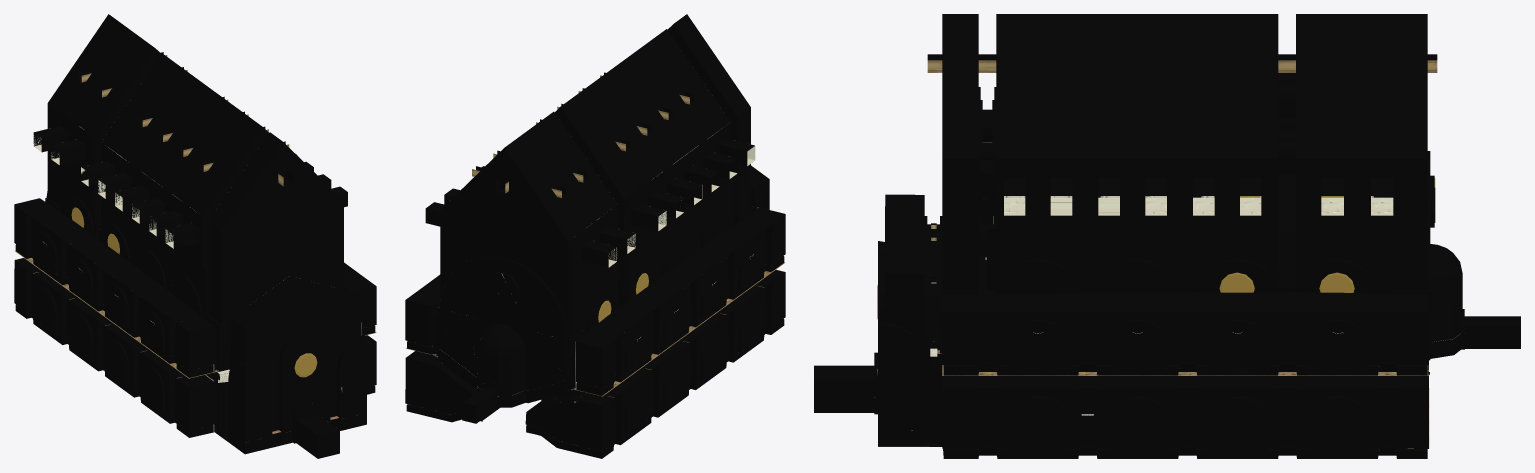
Rendered from hyrule_castle_interior.glb.
3 views of the same model, side by side, from view 1: azimuth 30°, elevation 25°; view 2: azimuth 150°, elevation 25°; view 3: azimuth 270°, elevation 25° (orthographic). The views are drawn at different scales.
Visible parts, largest first — view 1: Material2, Material3 (×4); view 2: Material2, Material3 (×4); view 3: Material2, Material3 (×4).
Boxes of the visible parts, x1,y1,x2,y2 form: Material2: (14,14,376,458); Material3 (×4): (15,55,376,392); Material2: (405,14,785,458); Material3 (×4): (406,75,784,396); Material2: (814,14,1520,458); Material3 (×4): (877,60,1437,375).
Size of the model in its own units: 17207 by 24115 by 39288.
33 materials, 32 textured.
